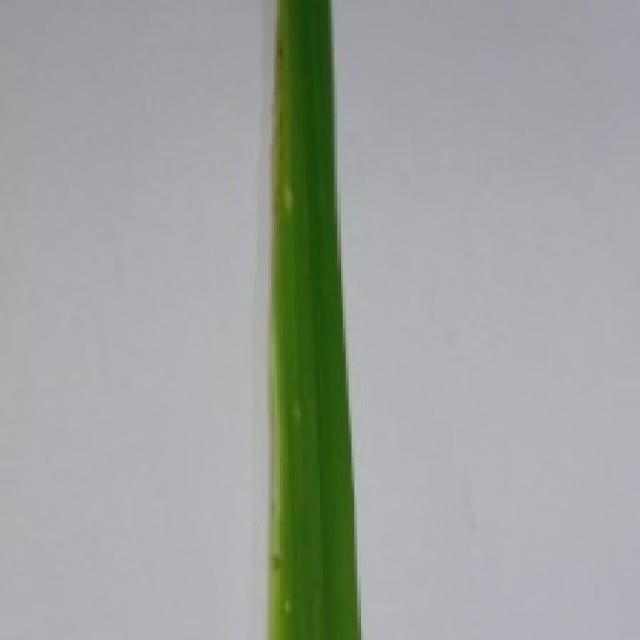Bacterial_Blight: (263, 0, 286, 640)
